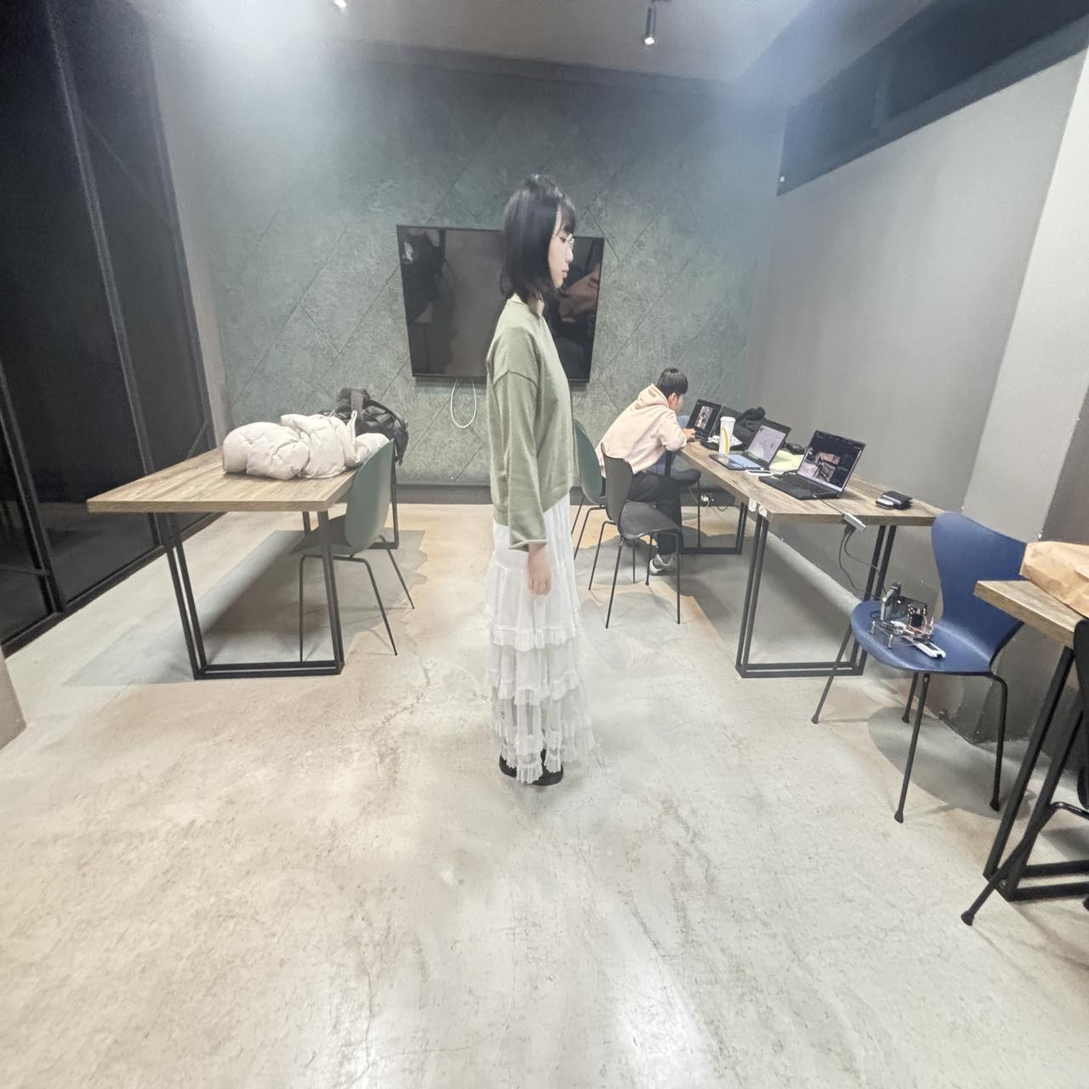person: (487, 175, 594, 784), (597, 369, 697, 577)
